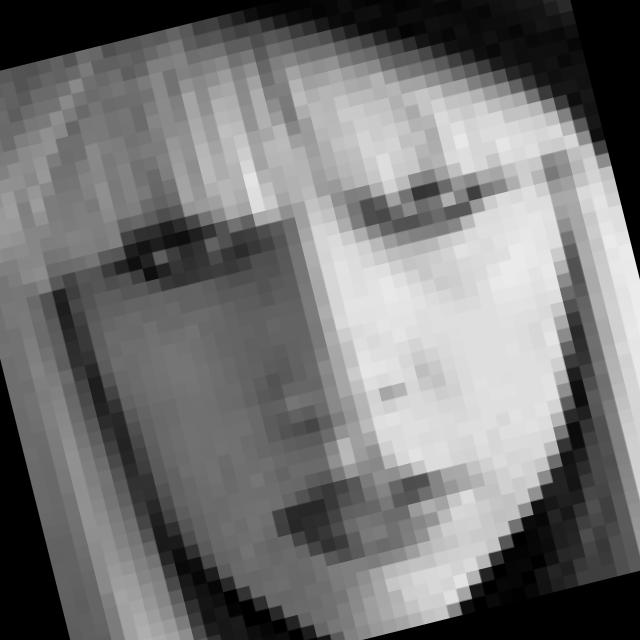neutral: (83, 106, 616, 632)
